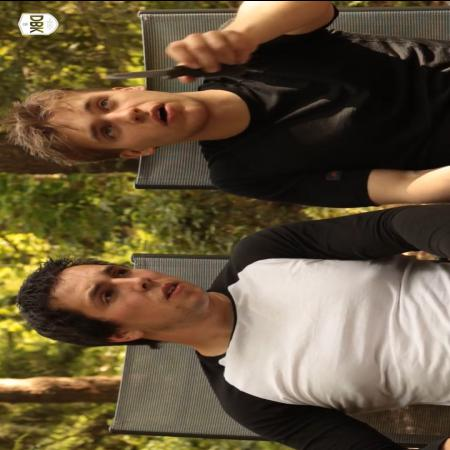long weapon: (94, 49, 250, 83)
